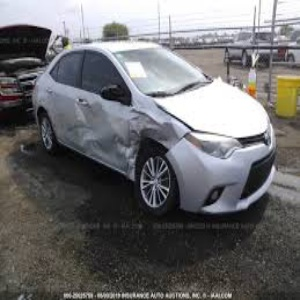door: (53, 100, 137, 175)
